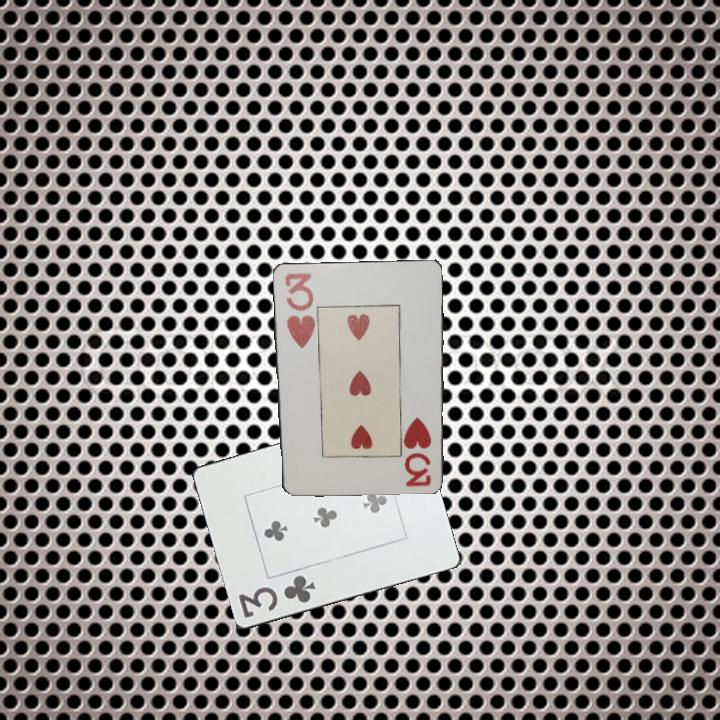3c: (235, 572, 319, 621)
3h: (281, 269, 316, 351), (403, 413, 434, 489)
